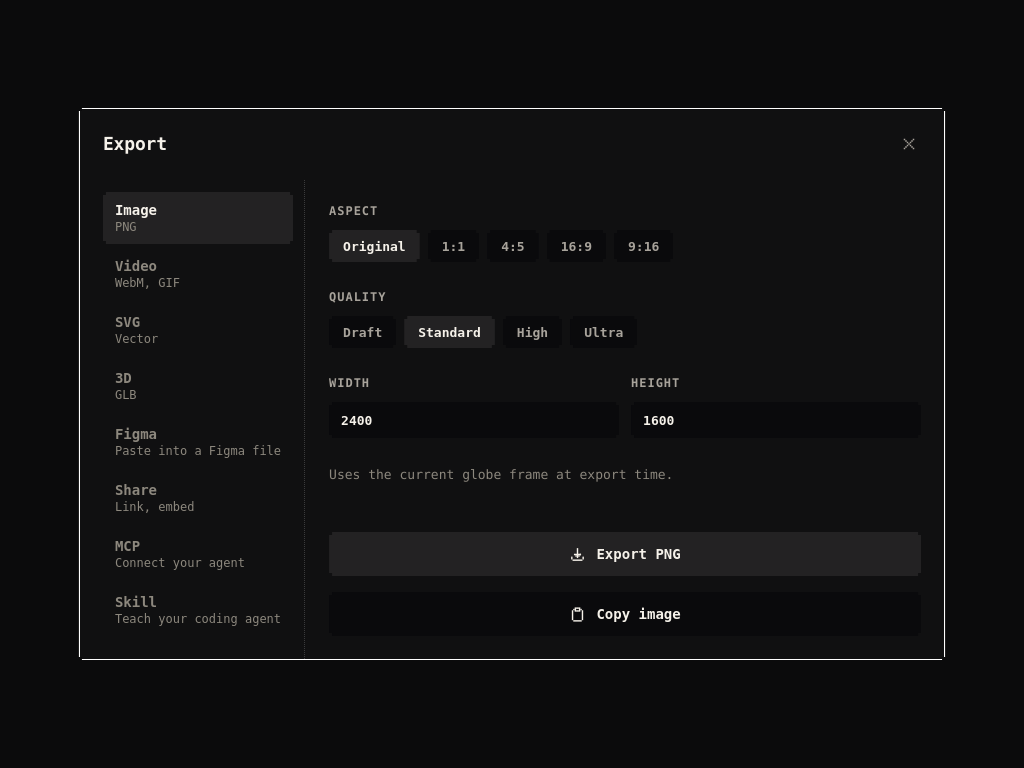
Test: ExportModal › says GIF transparency has hard edges, only for a Transparent background
Step 1. Click the tab "Video WebM, GIF" → (198, 274), box [103, 248, 293, 300]
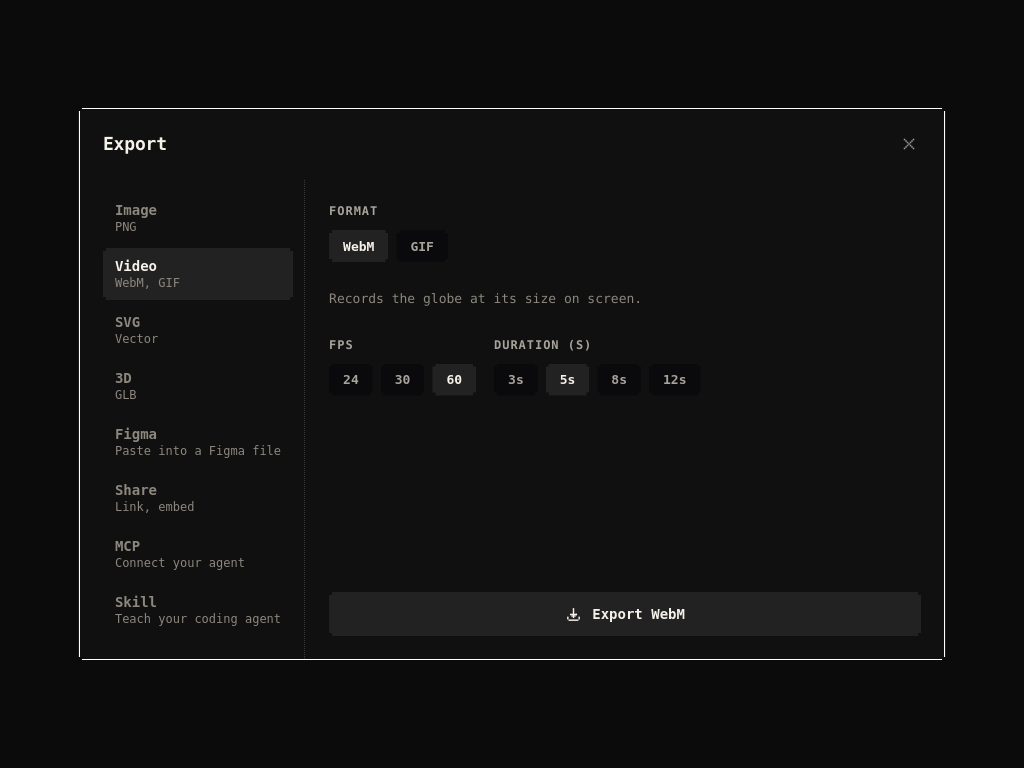
Expected: the text "GIF transparency has hard edges. Use WebM or PNG for soft ones." is not shown
Step 2. Click the button "GIF" → (422, 246), box [396, 230, 448, 262]
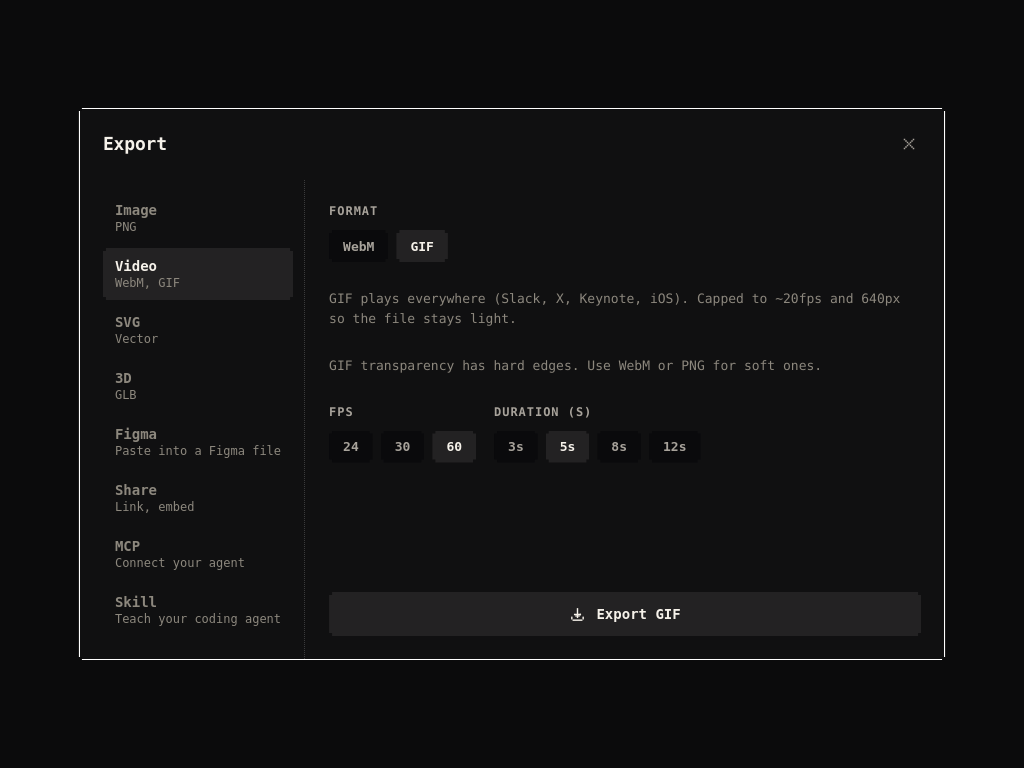
Expected: the text "GIF transparency has hard edges. Use WebM or PNG for soft ones." is shown, [329, 359, 822, 374]
